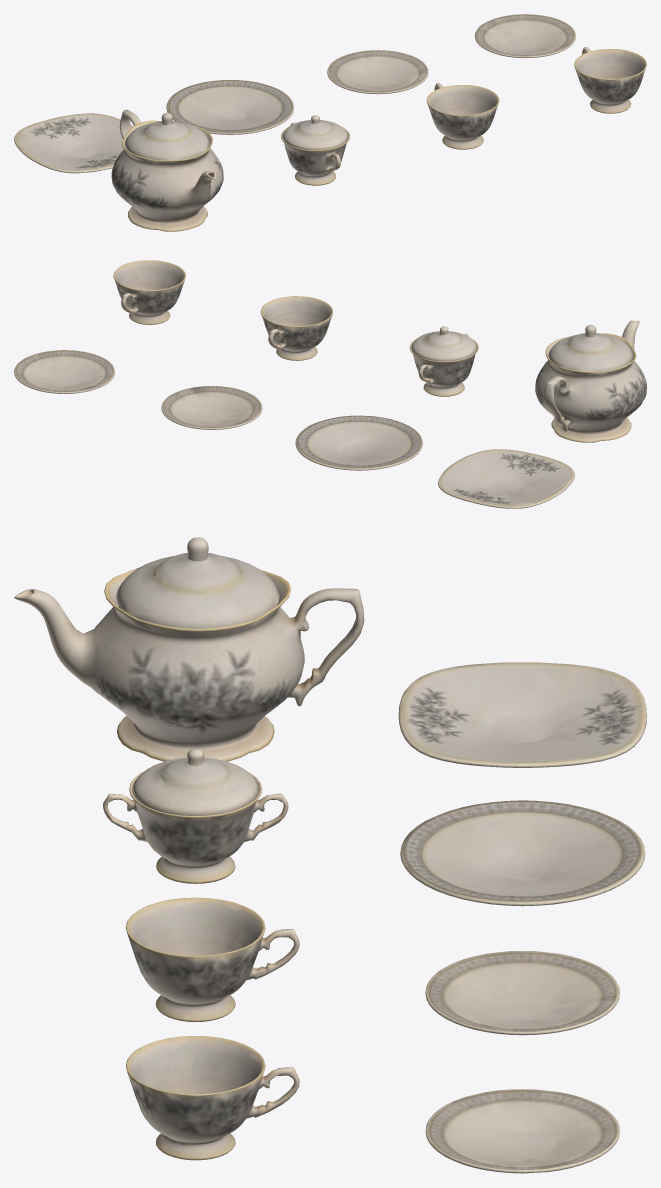
The model's file is polyhaven-tea-set-01.glb.
3 views of the same model, one above another, from view 1: azimuth 30°, elevation 25°; view 2: azimuth 150°, elevation 25°; view 3: azimuth 270°, elevation 25° (orthographic). The views are drawn at different scales.
Parts seen in each view (by area): view 1: tea_set_01_plate_large_square_01; view 2: tea_set_01_plate_large_square_01; view 3: tea_set_01_plate_large_square_01.
Boxes of the visible parts, x1,y1,x2,y2 form: tea_set_01_plate_large_square_01: (14,14,646,231); tea_set_01_plate_large_square_01: (14,260,646,508); tea_set_01_plate_large_square_01: (14,537,646,1173).
Size of the model in its own units: 0.9183 by 0.165 by 0.4838.
Materials: 1 (1 with a texture image).
